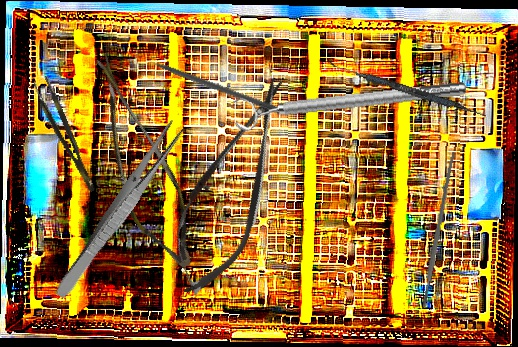Dressing Forceps: (52, 117, 187, 304)
Fixation Ring: (231, 70, 469, 134)
Micro Scissor: (46, 48, 229, 277), (153, 65, 310, 307)
Pusher: (133, 51, 284, 115)
Scalpel Handle: (419, 151, 457, 308)
Spatula Surgical: (326, 60, 488, 119)
Tissue Forceps: (31, 75, 97, 197)
